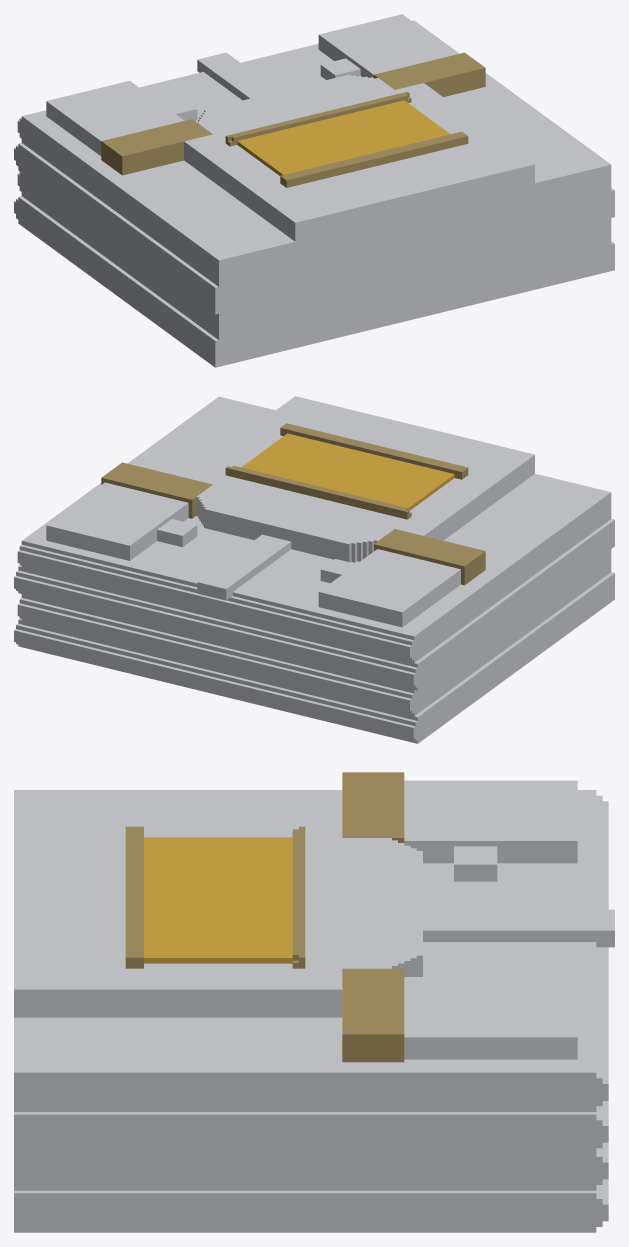
Rendered from entry_suit.glb.
3 renders of one model, top to bottom at view 1: azimuth 30°, elevation 25°; view 2: azimuth 150°, elevation 25°; view 3: azimuth 270°, elevation 25°, orthographic. The views are drawn at different scales.
Visible parts, largest first — view 1: entry_suit:compound; view 2: entry_suit:compound; view 3: entry_suit:compound.
Boxes of the visible parts, x1,y1,x2,y2 form: entry_suit:compound: [14, 14, 614, 367]; entry_suit:compound: [14, 396, 614, 743]; entry_suit:compound: [14, 772, 614, 1232].
Bounding box in the file's own units: 0.44 × 0.14 × 0.388.
